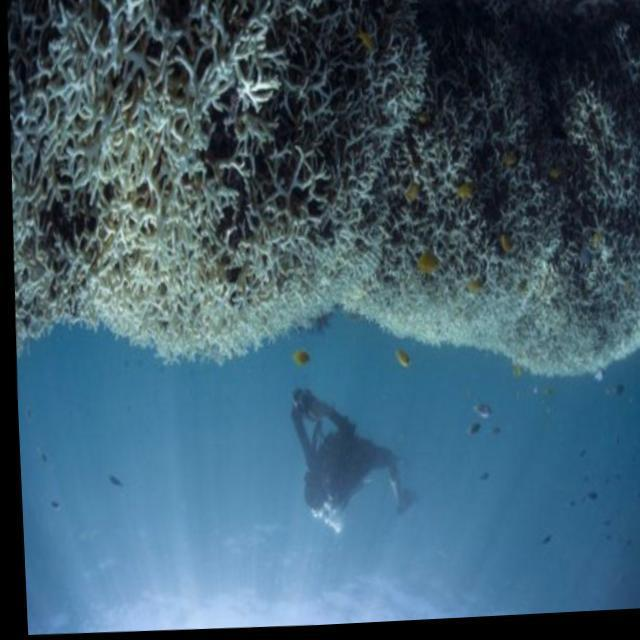Dead Coral: (210, 0, 640, 391), (304, 0, 640, 398), (7, 202, 92, 324)
